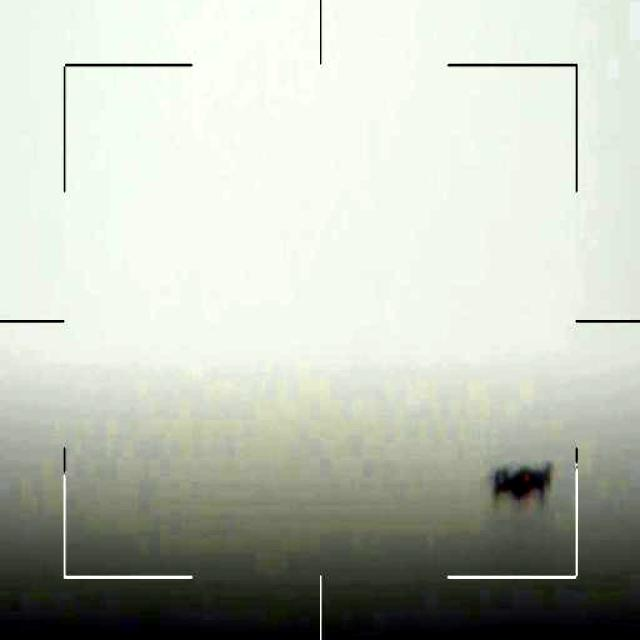bird: (488, 461, 560, 508)
